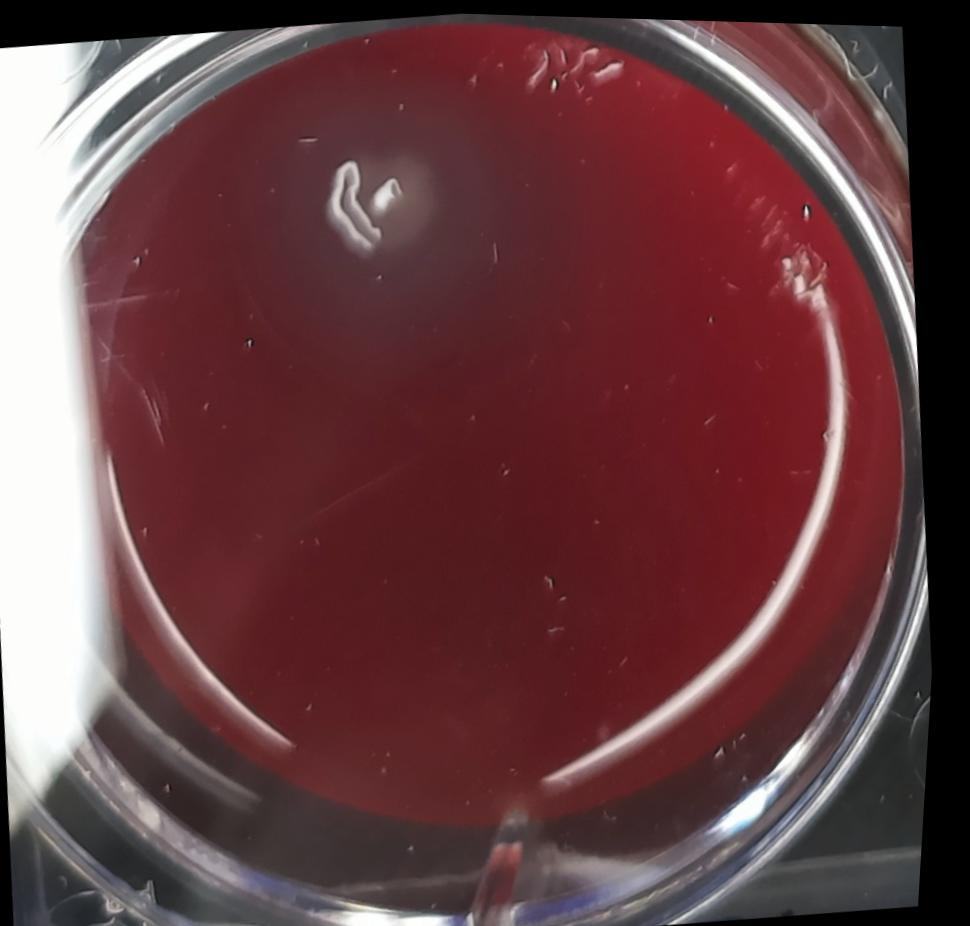vproteolyticus: (253, 80, 517, 328)
